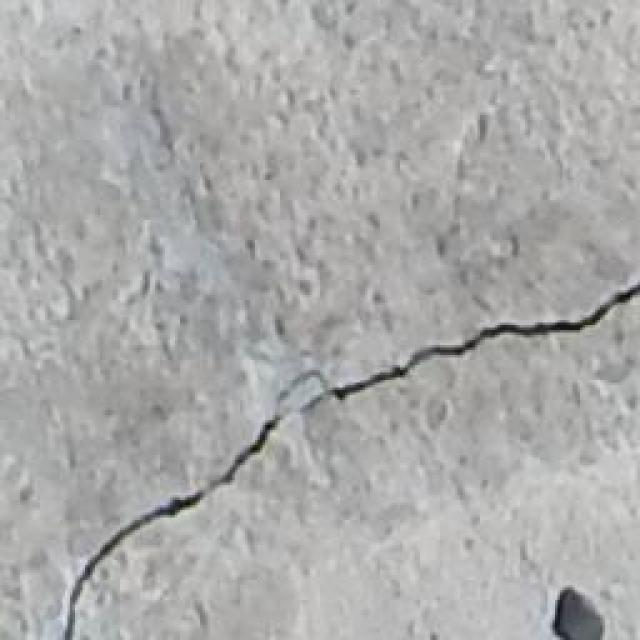concrete-crack: (60, 270, 640, 640)
